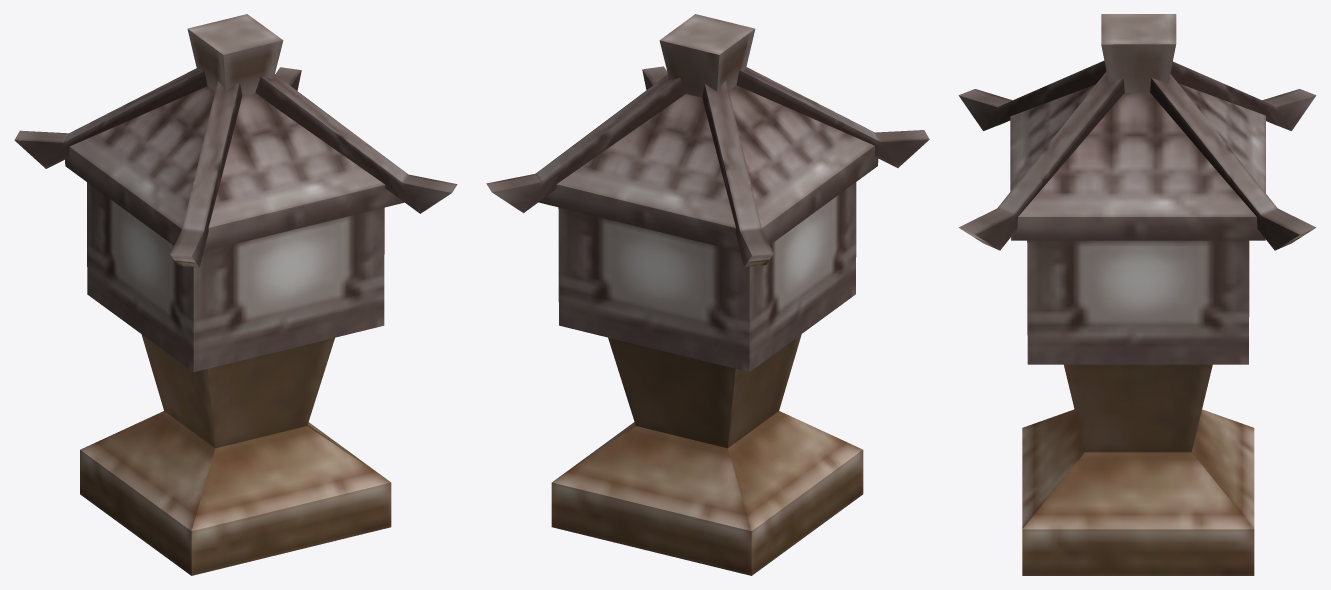
3 renders of one model, left to right at view 1: azimuth 30°, elevation 25°; view 2: azimuth 150°, elevation 25°; view 3: azimuth 270°, elevation 25°, orthographic. The views are drawn at different scales.
Visible parts, largest first — view 1: 83002_04; view 2: 83002_04; view 3: 83002_04.
Part boxes in pixels (box(x1,y1,x2,y2)): 83002_04: box(14, 14, 457, 575); 83002_04: box(486, 14, 929, 575); 83002_04: box(958, 14, 1316, 575).
Bounding box in the file's own units: 113 × 179 × 117.
